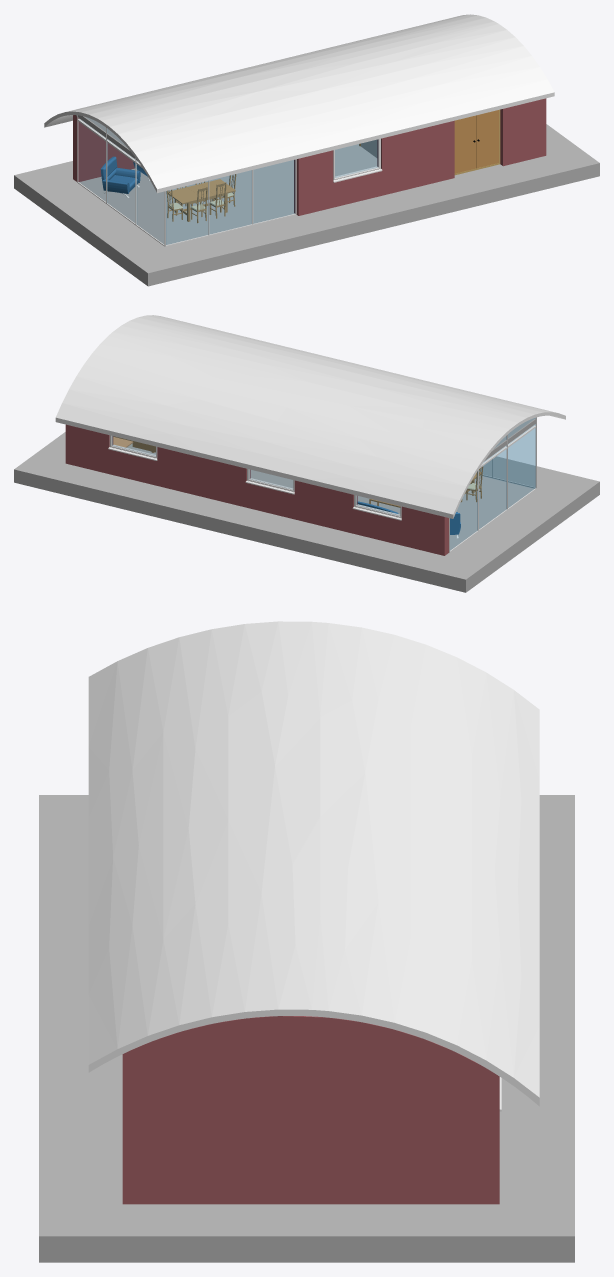
The model's file is Ifc4_SampleHouse.glb.
3 renders of one model, top to bottom at view 1: azimuth 30°, elevation 25°; view 2: azimuth 150°, elevation 25°; view 3: azimuth 270°, elevation 25°, orthographic. The views are drawn at different scales.
Parts seen in each view (by area): view 1: Fake; view 2: Fake; view 3: Fake.
Part boxes in pixels (box(x1,y1,x2,y2)): Fake: box(14, 14, 599, 286); Fake: box(14, 315, 599, 592); Fake: box(39, 621, 574, 1262).
Size of the model in its own units: 16.87 by 3.95 by 8.67.
